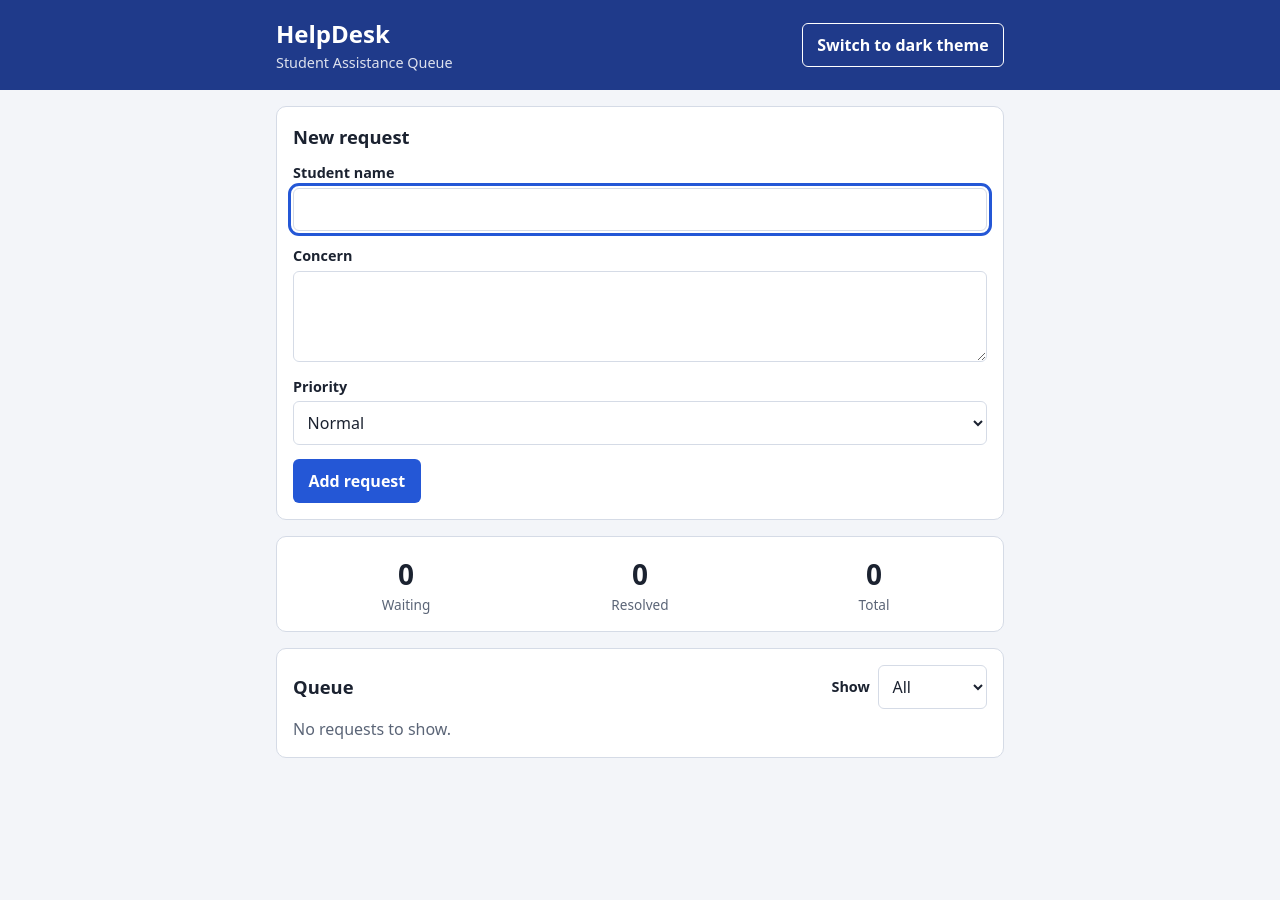
Test: Task 6 verification table › 1. blank name is rejected and the name input is focused
Type "Help" into the text box labelled "Concern" at (640, 316), box [293, 271, 987, 362]
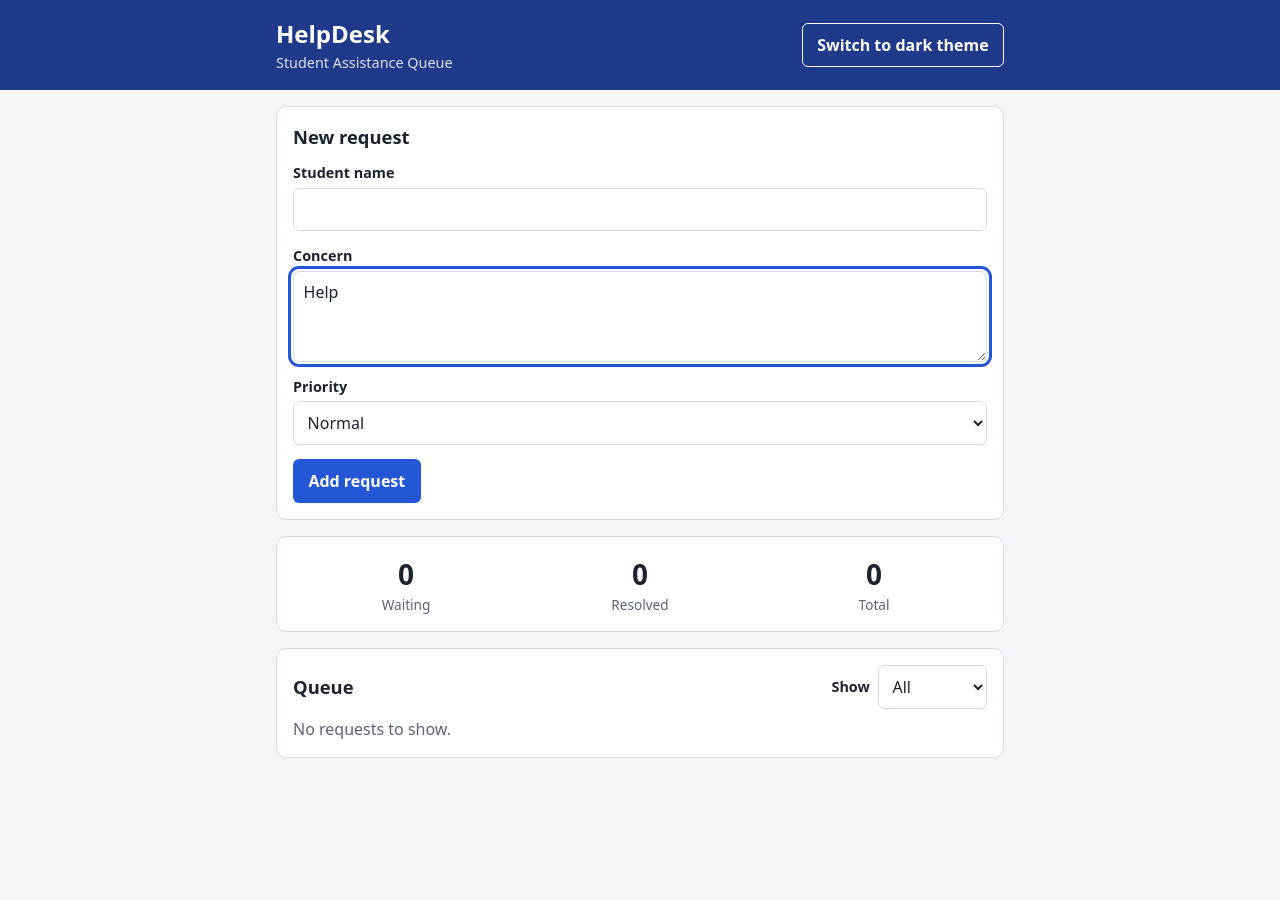
Click the button "Add request" at (357, 481), box [293, 459, 421, 503]
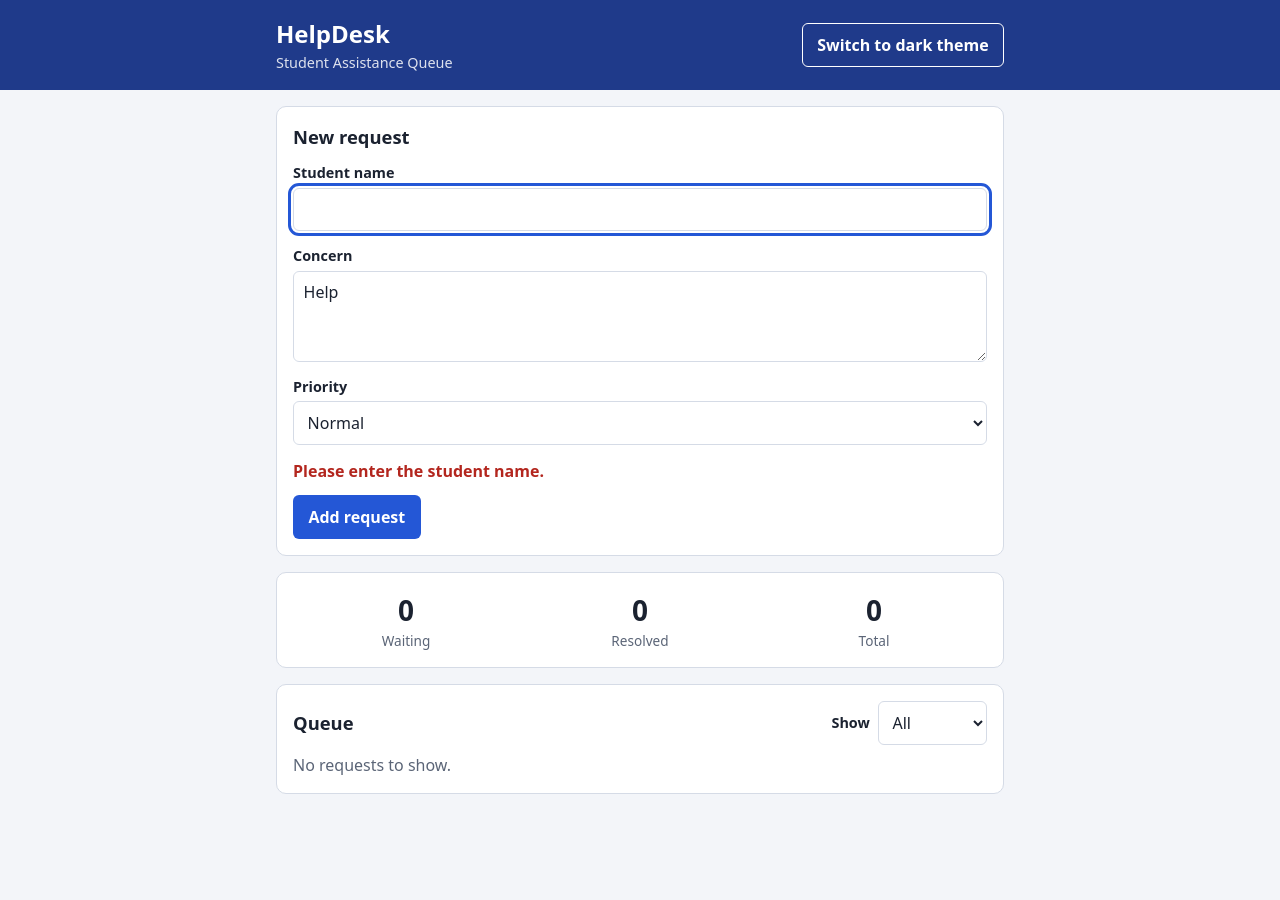
Check: the message "Please enter the student name." is shown, box [293, 460, 544, 482]
